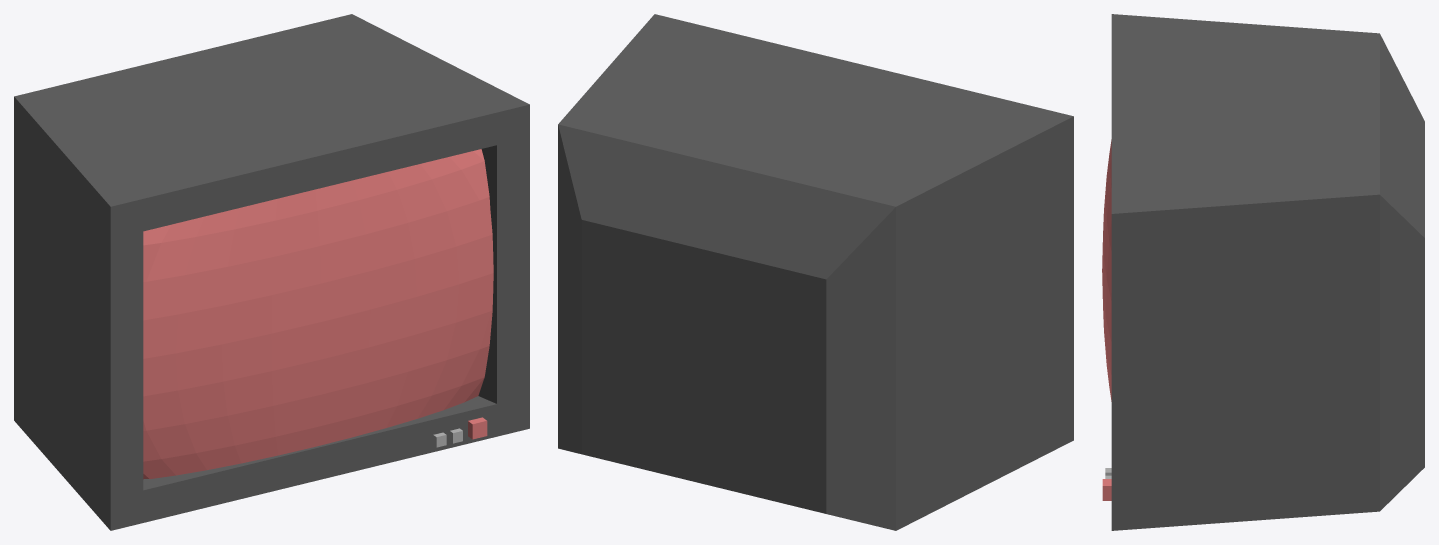
The model's file is Monitor.fbx.
The picture shows the model from 3 angles, left to right: view 1: azimuth 30°, elevation 25°; view 2: azimuth 150°, elevation 25°; view 3: azimuth 270°, elevation 25°; orthographic projection. The views are drawn at different scales.
Visible parts, largest first — view 1: cabeca, cabeca.001; view 2: cabeca; view 3: cabeca, cabeca.001.
Boxes of the visible parts, left/top/right/bottom form: cabeca: left=14, top=14, right=529, bottom=530; cabeca.001: left=143, top=149, right=493, bottom=479; cabeca: left=558, top=14, right=1073, bottom=530; cabeca: left=1102, top=14, right=1424, bottom=530; cabeca.001: left=1102, top=139, right=1111, bottom=401.
Bounding box in the file's own units: 469 × 347 × 320.
